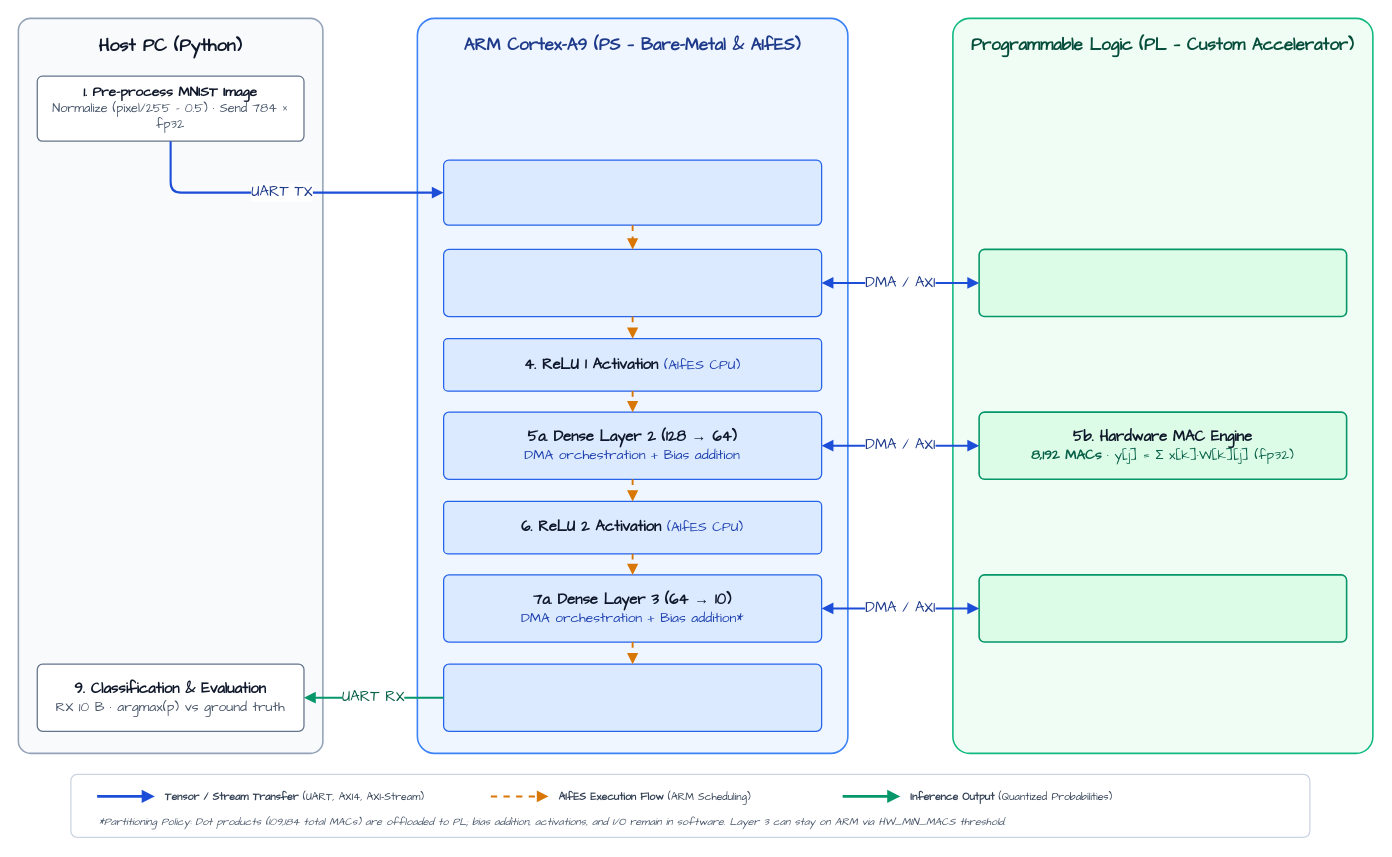
This 1392x857 diagram has some shape labels left out. The centre of each missing label's shape, as x and y in pixels:
"2. UART Frame Reception Polled XUartPs · Buffer 784 × fp32 in DDR3" goes at (632,192).
"3a. Dense Layer 1 (784 → 128) DMA orchestration + Bias addition" goes at (632,282).
"3b. Hardware MAC Engine 100,352 MACs · y[j] = Σ x[k]·W[k][j] (fp32)" goes at (1162,282).
"7b. Hardware MAC Engine 640 MACs · y[j] = Σ x[k]·W[k][j] (fp32)" goes at (1162,608).
"8. Softmax & Quantization AIfES Softmax · Scale p × 255 → TX 10 B" goes at (632,697).
